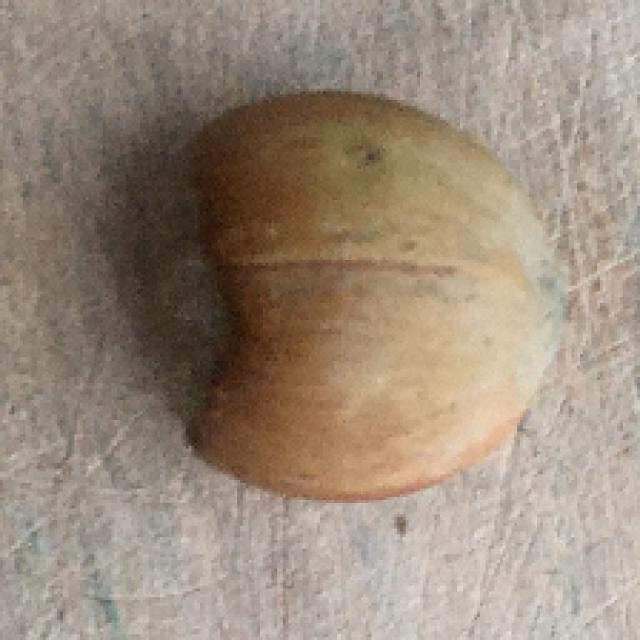DamagedHazelnut: (121, 88, 575, 501)
